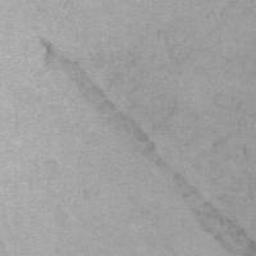Water spot: (38, 35, 256, 256)
